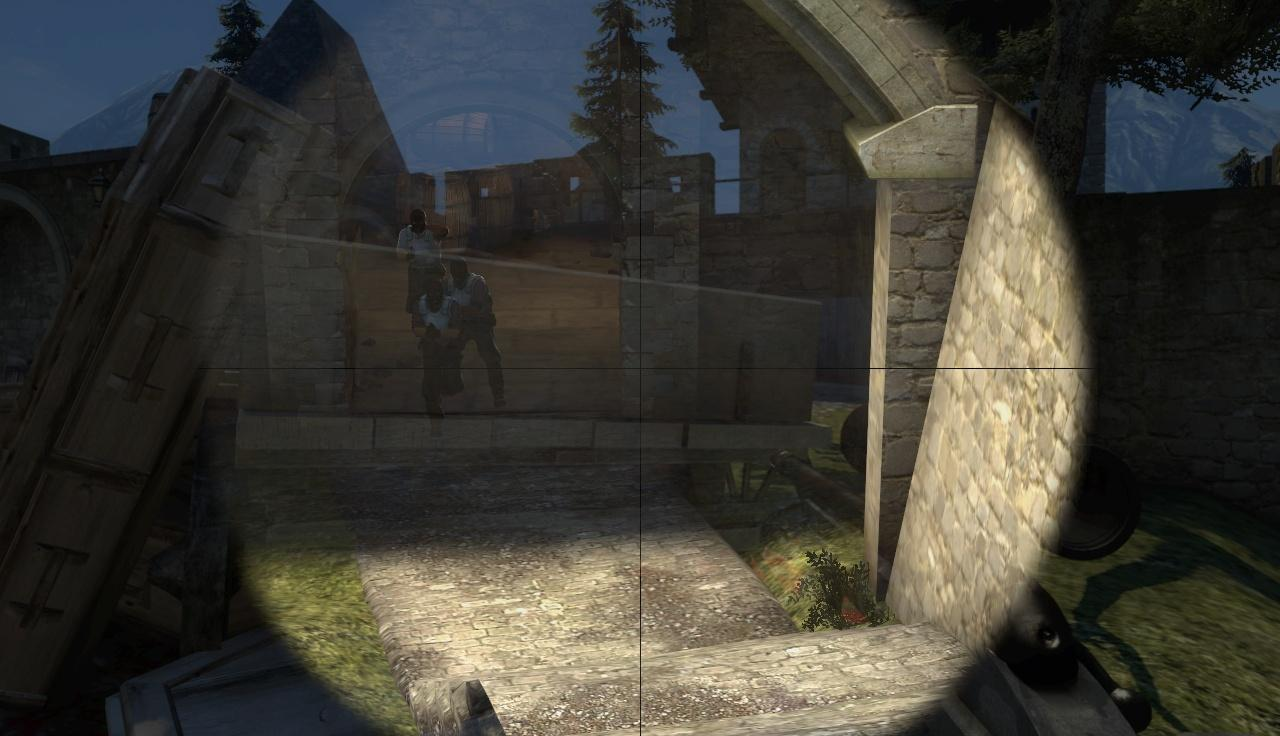tt: (415, 281, 457, 436), (458, 257, 493, 403), (402, 207, 445, 279)
tthead: (425, 280, 443, 308), (450, 258, 468, 282), (411, 209, 426, 234)
